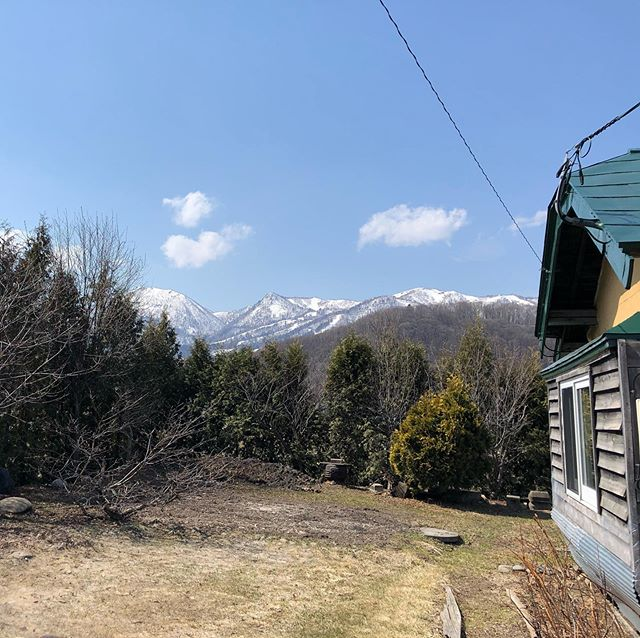building: (510, 154, 640, 627)
mountain: (137, 277, 543, 360)
sky: (1, 1, 640, 271)
tree: (1, 249, 157, 520), (171, 339, 313, 476), (392, 365, 497, 504), (454, 338, 546, 496), (323, 332, 386, 489)
